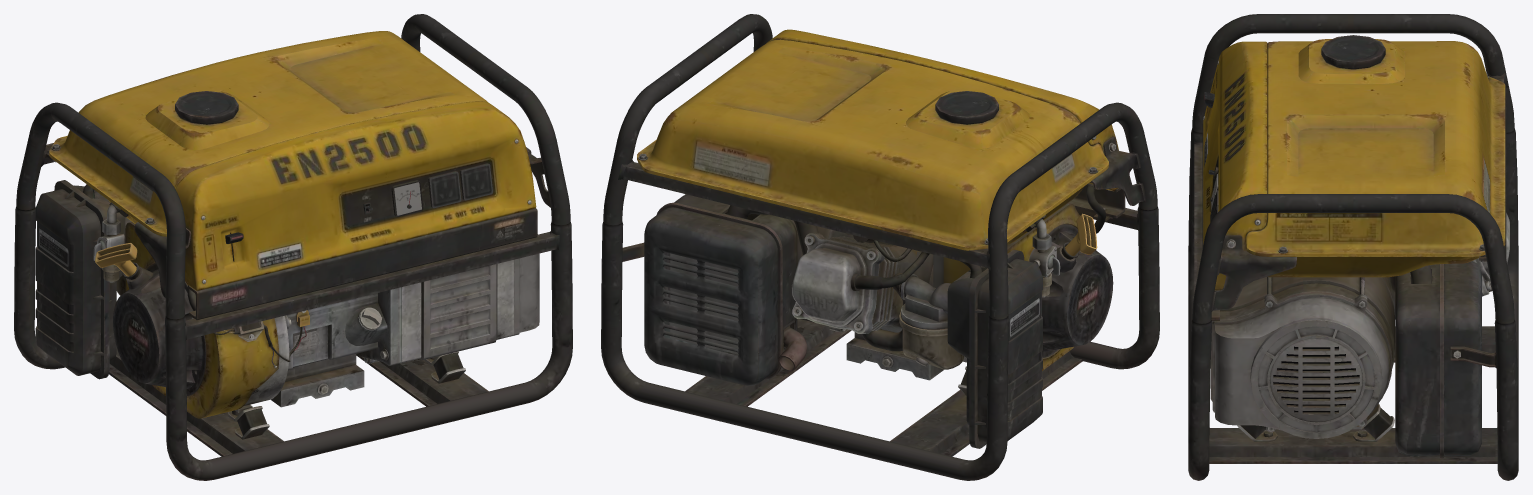
File: portable_generator.glb
3 views of the same model, side by side, from view 1: azimuth 30°, elevation 25°; view 2: azimuth 150°, elevation 25°; view 3: azimuth 270°, elevation 25° (orthographic).
Parts seen in each view (by area): view 1: portable_generator; view 2: portable_generator; view 3: portable_generator.
Part boxes in pixels (x1,y1,x2,y2): portable_generator: [14, 14, 572, 480]; portable_generator: [601, 14, 1159, 480]; portable_generator: [1188, 14, 1518, 480].
Bounding box in the file's own units: 0.8183 × 0.577 × 0.564.
2 materials, 2 textured.
